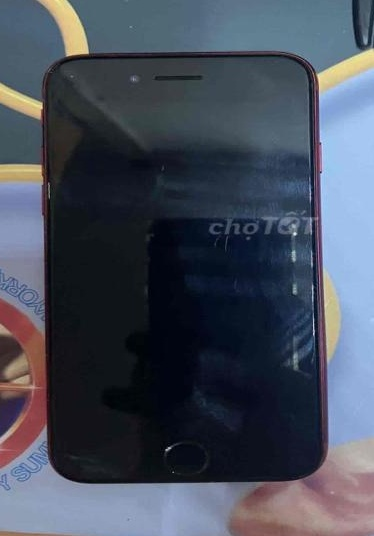scratch: (157, 440, 215, 474), (61, 71, 79, 79)
